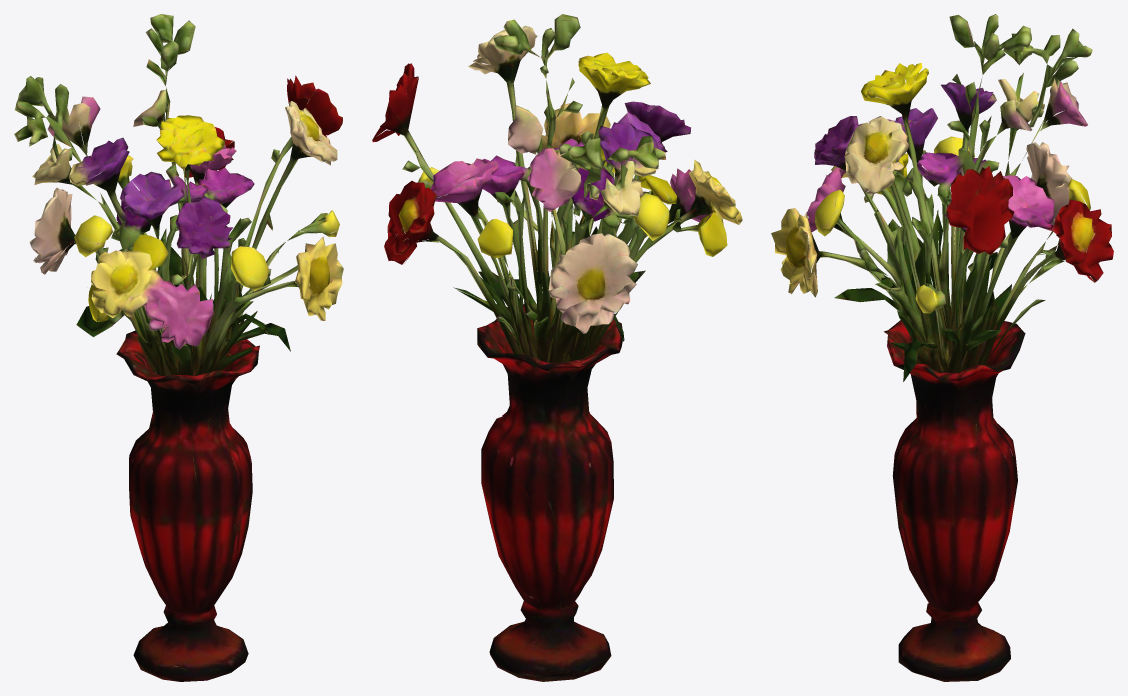
File: florero.glb
3 views of the same model, side by side, from view 1: azimuth 30°, elevation 25°; view 2: azimuth 150°, elevation 25°; view 3: azimuth 270°, elevation 25° (orthographic). The views are drawn at different scales.
Visible parts, largest first — view 1: geometry_0; view 2: geometry_0; view 3: geometry_0.
Boxes of the visible parts, x1=… form: geometry_0: x1=14, y1=14, x2=343, y2=681; geometry_0: x1=372, y1=14, x2=742, y2=681; geometry_0: x1=771, y1=14, x2=1113, y2=681.
Bounding box in the file's own units: 0.22 × 0.45 × 0.2205.
1 material, 1 textured.
